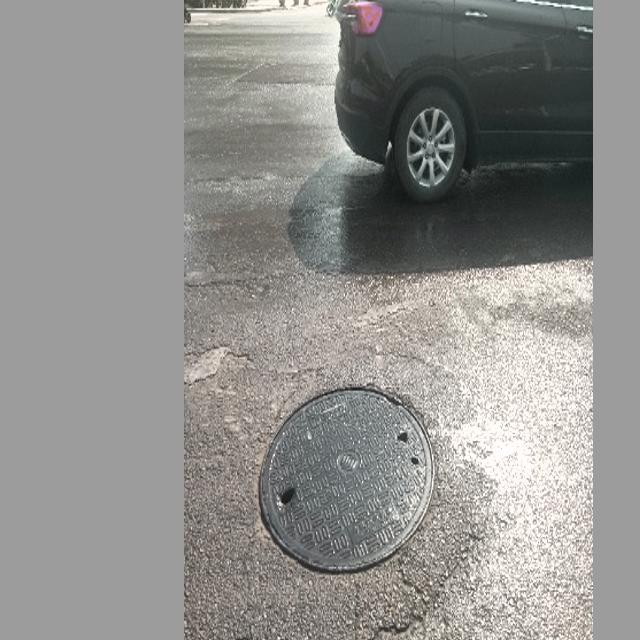good: (258, 382, 434, 571)
